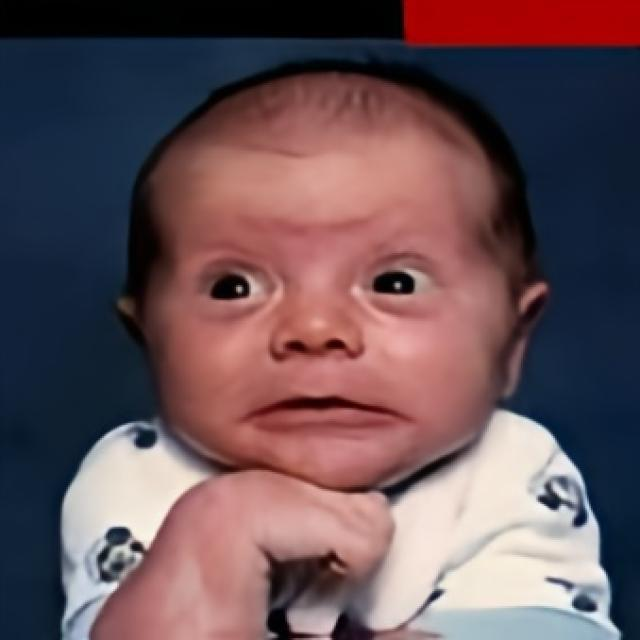fear: (138, 78, 510, 492)
